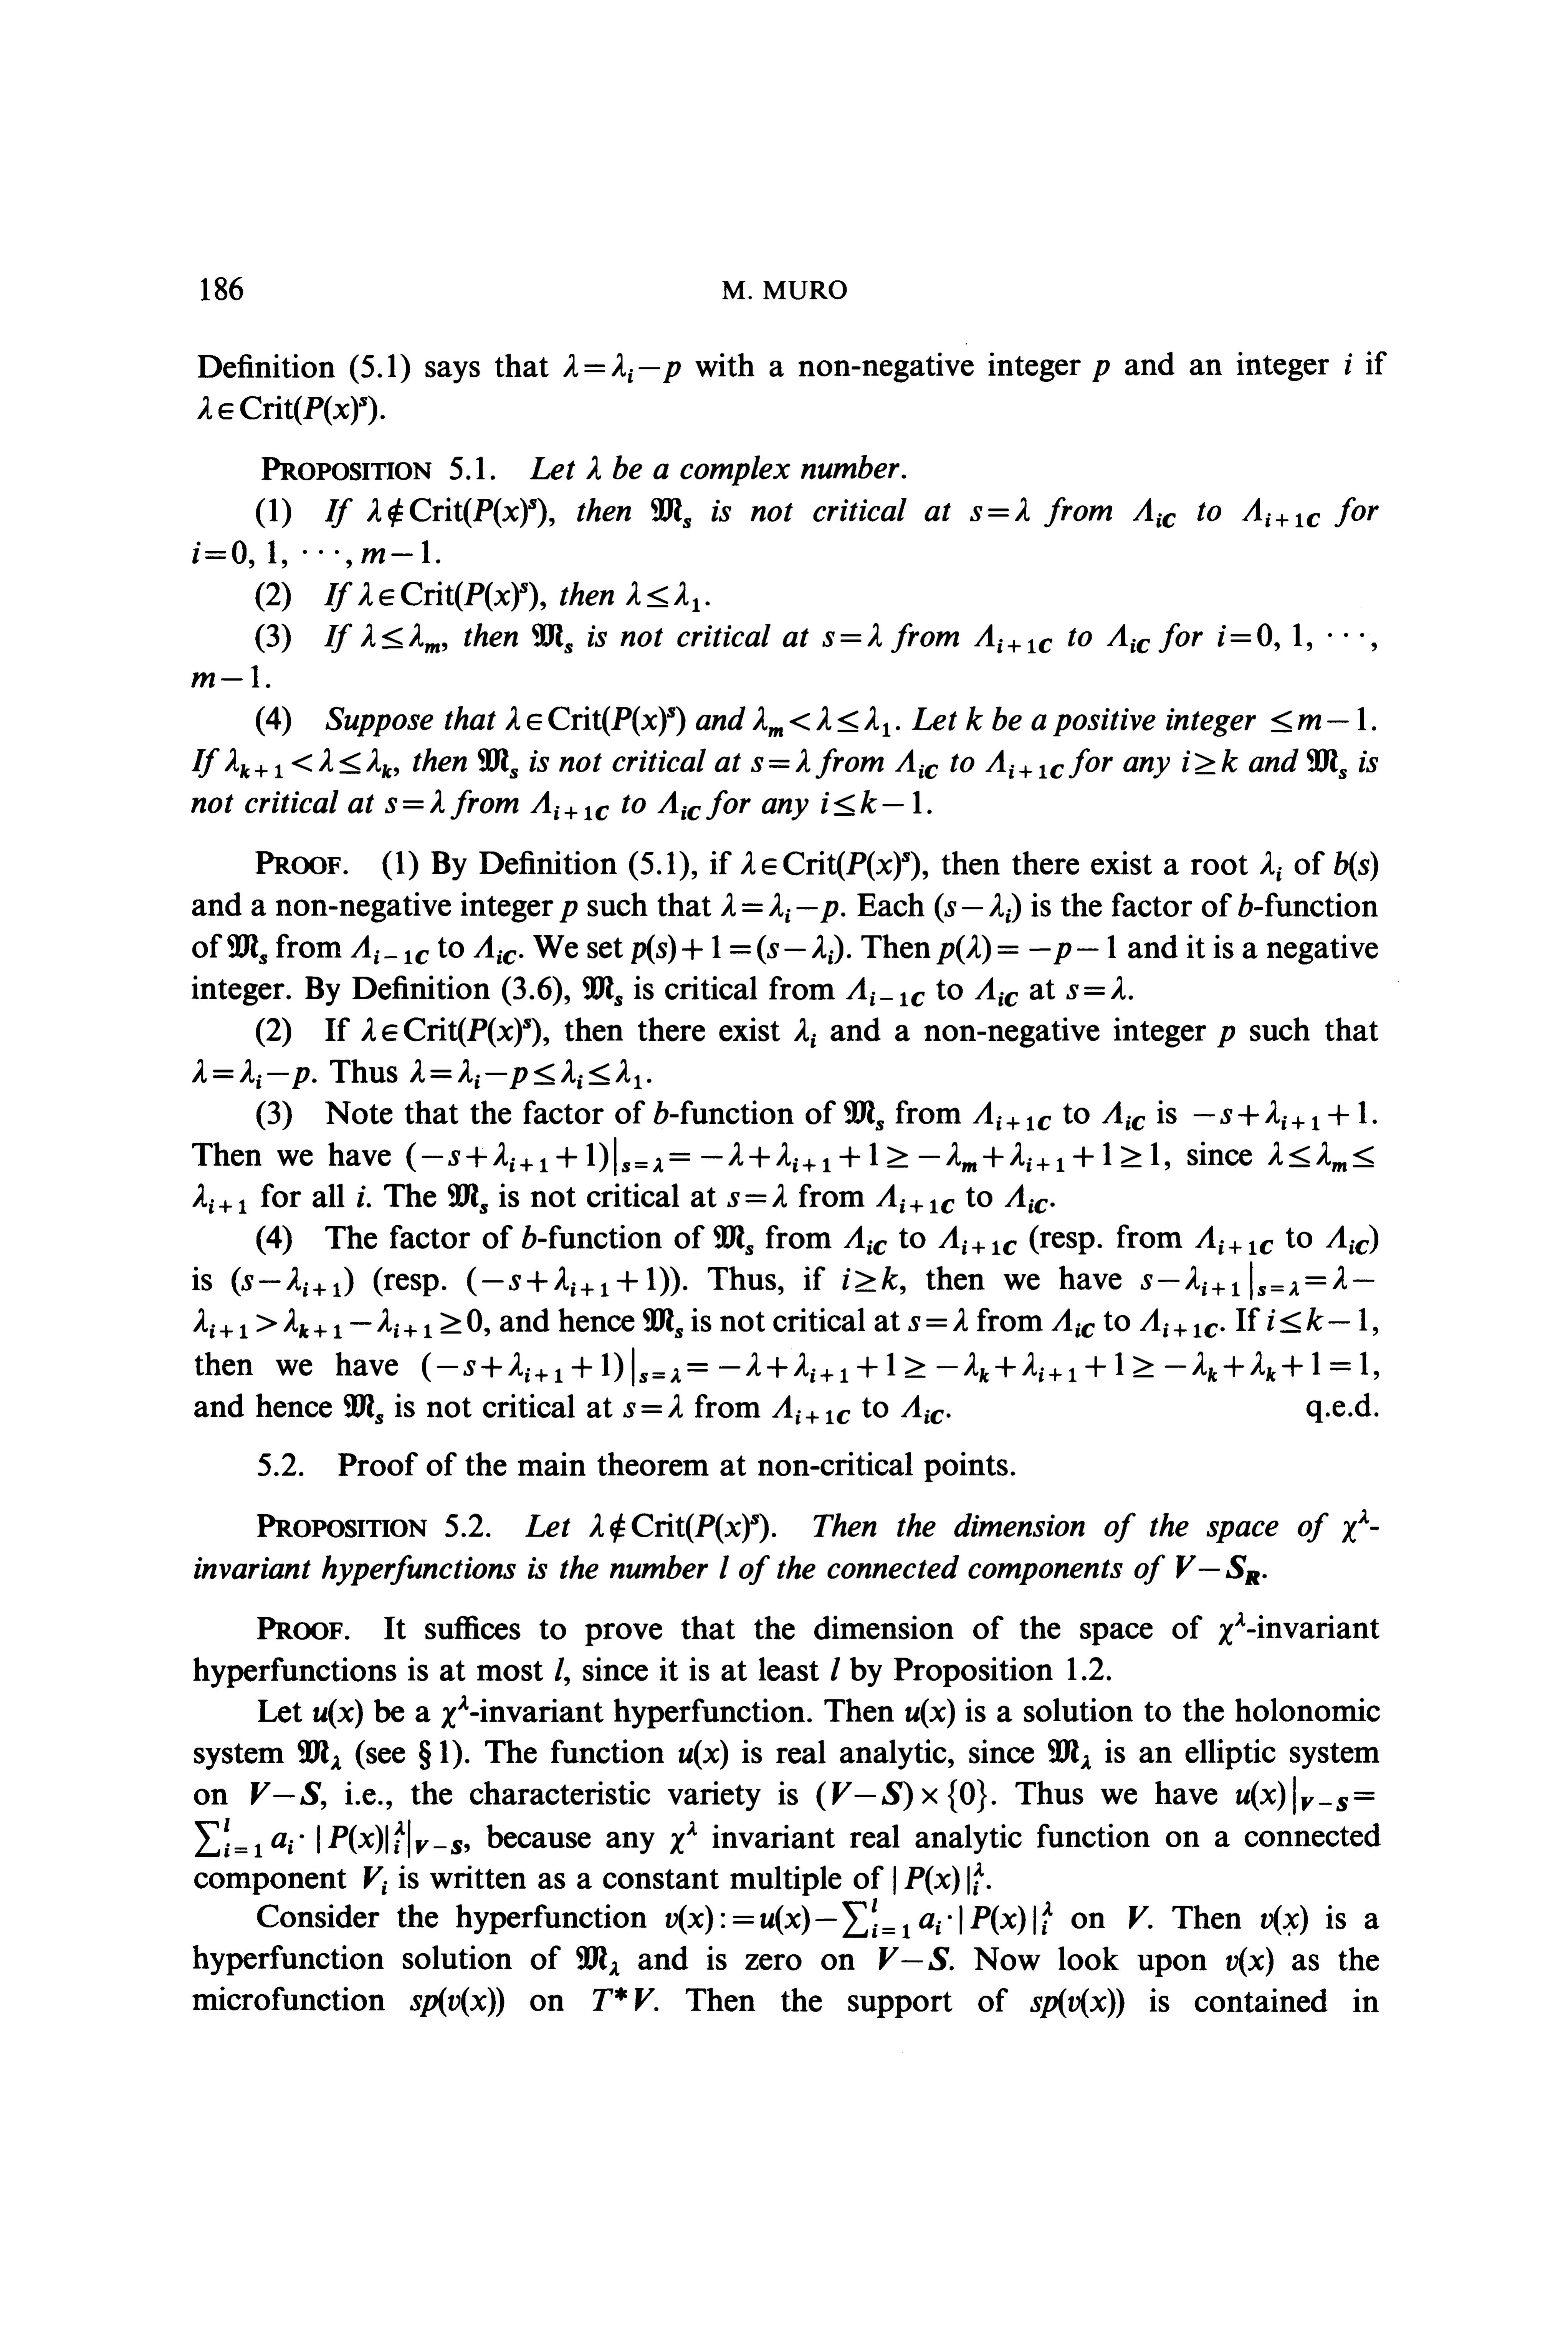maths: (422, 1348, 1369, 1386), (406, 1136, 1159, 1176), (665, 1899, 1052, 1937), (194, 1818, 469, 1857), (1141, 1262, 1374, 1300), (193, 1309, 490, 1339), (409, 1059, 641, 1089), (193, 541, 431, 569), (630, 935, 843, 964), (467, 1267, 679, 1297), (817, 1780, 987, 1813), (506, 705, 684, 737), (361, 1017, 549, 1047), (740, 851, 927, 880), (590, 1514, 775, 1544), (1194, 1099, 1367, 1131), (357, 581, 537, 611), (936, 935, 1116, 964), (1235, 1776, 1374, 1815), (198, 396, 376, 425), (367, 497, 546, 527), (224, 747, 392, 779), (1218, 623, 1377, 651), (752, 705, 891, 737), (721, 893, 845, 922), (231, 1267, 354, 1297), (563, 354, 681, 383), (193, 1059, 310, 1089), (1269, 1141, 1374, 1171), (905, 1862, 990, 1895), (409, 1986, 504, 2016), (1031, 1988, 1123, 2018), (1176, 1556, 1267, 1586), (821, 789, 922, 816), (935, 893, 1020, 922), (1267, 1307, 1367, 1332), (1139, 1309, 1225, 1337), (361, 623, 439, 653), (985, 749, 1064, 779), (350, 935, 429, 964), (938, 1225, 1017, 1255), (772, 1395, 851, 1425), (1270, 707, 1365, 732), (1243, 497, 1319, 527), (847, 977, 924, 1006), (973, 1101, 1050, 1131), (1195, 1225, 1272, 1255), (530, 791, 609, 819), (626, 581, 700, 611), (975, 625, 1052, 653), (877, 1185, 954, 1213), (250, 1782, 325, 1810), (878, 1946, 954, 1971), (842, 1265, 905, 1293), (193, 1183, 247, 1213), (191, 665, 259, 688), (1066, 977, 1132, 999), (1326, 1225, 1377, 1255), (593, 1988, 658, 2011), (970, 497, 1029, 522), (385, 789, 445, 814), (728, 1183, 788, 1208), (908, 1307, 968, 1332), (901, 1395, 950, 1425), (313, 1699, 362, 1729), (679, 1740, 728, 1769), (905, 1699, 955, 1727), (1260, 1906, 1307, 1936), (1227, 1946, 1274, 1976), (1183, 749, 1239, 774), (1004, 1185, 1053, 1213), (822, 623, 882, 646), (751, 749, 810, 772), (623, 1395, 683, 1418), (894, 749, 938, 779), (1333, 851, 1377, 880), (975, 977, 1019, 1006), (843, 1225, 887, 1255), (297, 1740, 341, 1769), (576, 1946, 619, 1976), (532, 621, 572, 653), (478, 747, 518, 779), (1108, 623, 1150, 653), (474, 935, 516, 964), (1102, 1101, 1145, 1131), (1048, 1740, 1090, 1769), (1132, 499, 1176, 527), (1218, 1612, 1255, 1645), (1342, 1509, 1379, 1542), (651, 497, 691, 527), (843, 1101, 884, 1131), (343, 1395, 383, 1425), (658, 791, 700, 819), (1052, 1309, 1094, 1337), (441, 1696, 478, 1727), (1307, 749, 1346, 779), (228, 935, 266, 964), (583, 977, 621, 1006), (448, 1183, 487, 1213), (714, 1225, 752, 1255), (642, 1309, 683, 1337), (670, 1822, 697, 1853), (364, 1866, 387, 1895), (1260, 851, 1281, 880), (794, 1017, 816, 1047), (1239, 893, 1263, 917), (653, 1101, 677, 1124), (521, 1225, 546, 1248), (1129, 1906, 1151, 1929), (966, 707, 984, 730), (555, 1657, 569, 1685), (1092, 361, 1110, 382), (560, 901, 577, 922), (1218, 1026, 1235, 1047), (586, 455, 600, 480), (357, 1185, 366, 1208), (831, 1657, 840, 1680), (719, 1556, 728, 1579), (1346, 354, 1351, 375)
